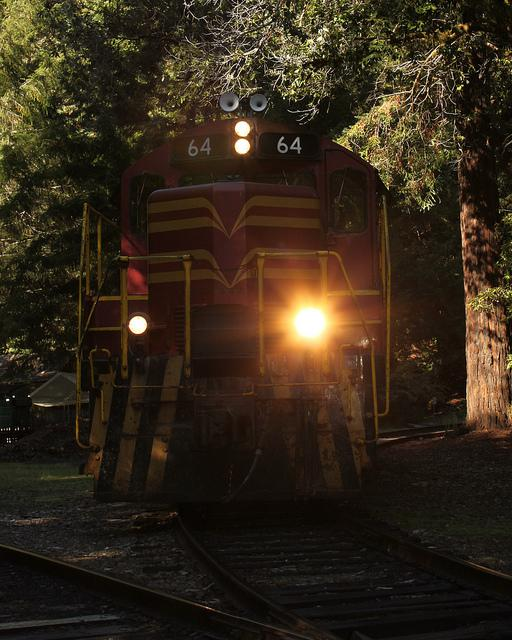Train: (31, 88, 395, 521)
